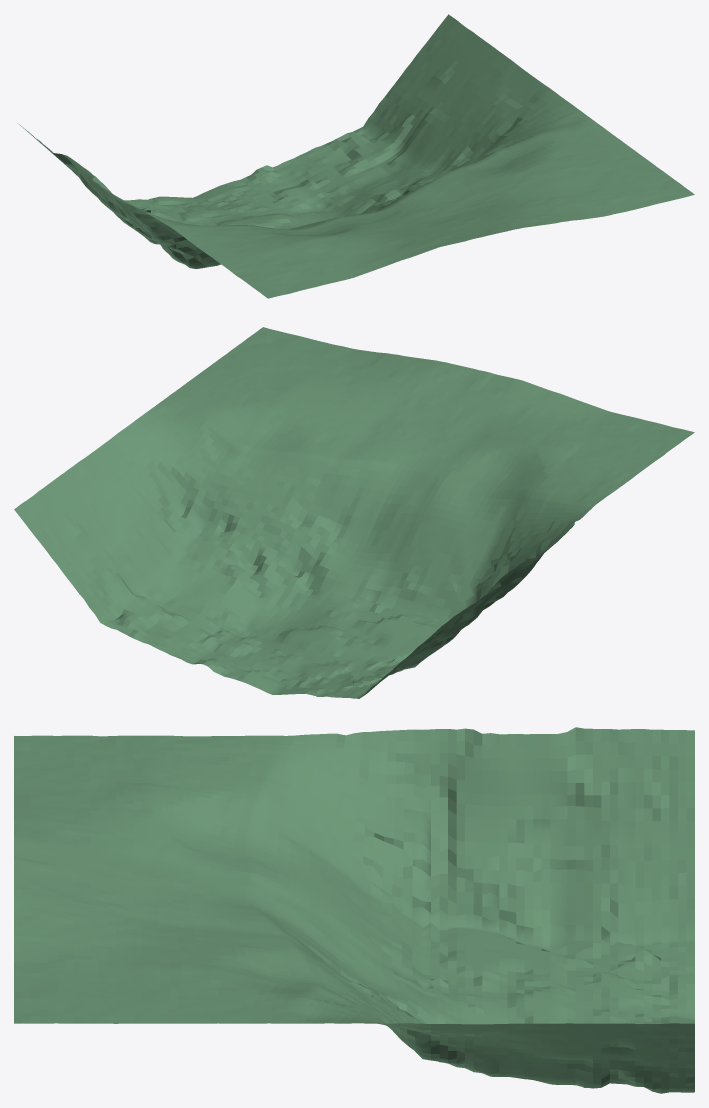
Rendered from Instant Death Environment.fbx.
3 renders of one model, top to bottom at view 1: azimuth 30°, elevation 25°; view 2: azimuth 150°, elevation 25°; view 3: azimuth 270°, elevation 25°, orthographic. The views are drawn at different scales.
Visible parts, largest first — view 1: Terrain; view 2: Terrain; view 3: Terrain.
Boxes of the visible parts, bbox=[...] form: Terrain: bbox=[17, 14, 694, 298]; Terrain: bbox=[14, 327, 694, 698]; Terrain: bbox=[14, 727, 694, 1093].
Bounding box in the file's own units: 257 × 73.22 × 250.
